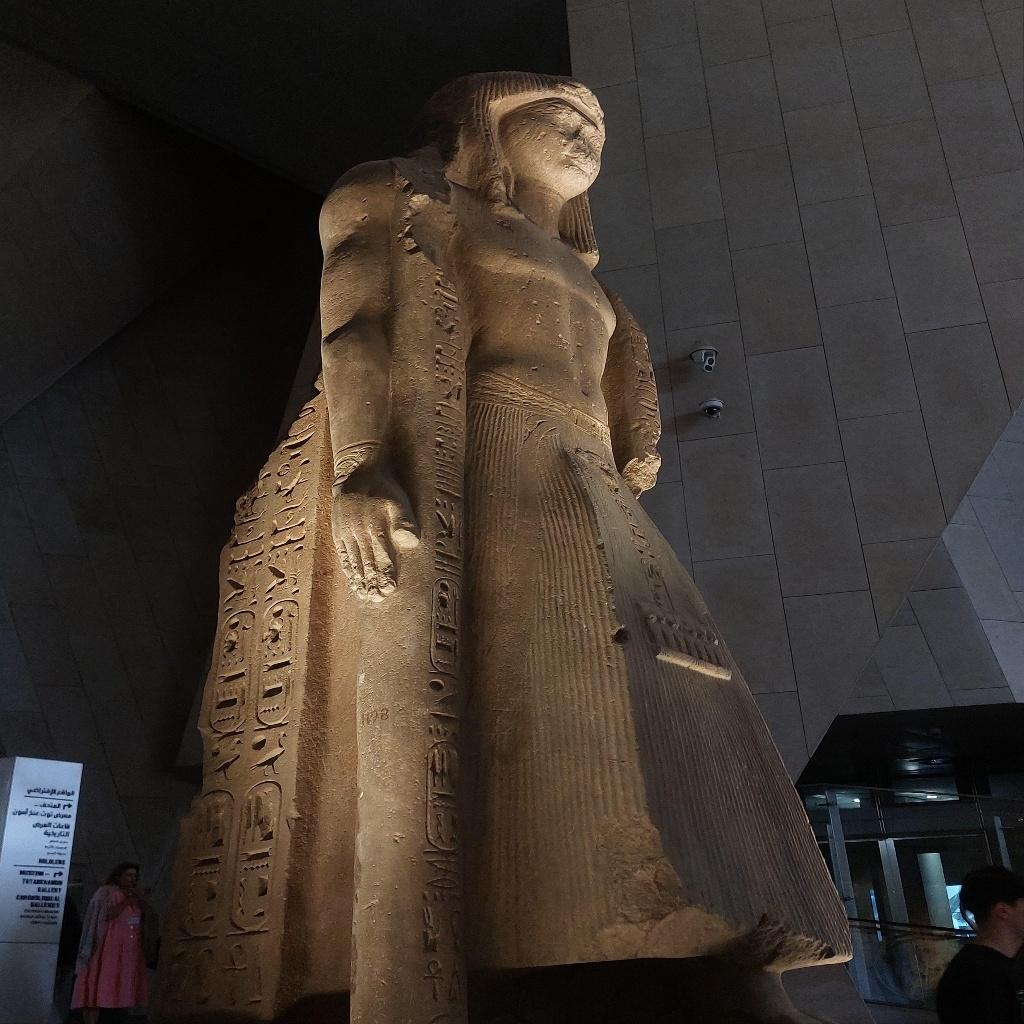Statue of King Sety Il Holding Standards: (150, 66, 862, 1020)
